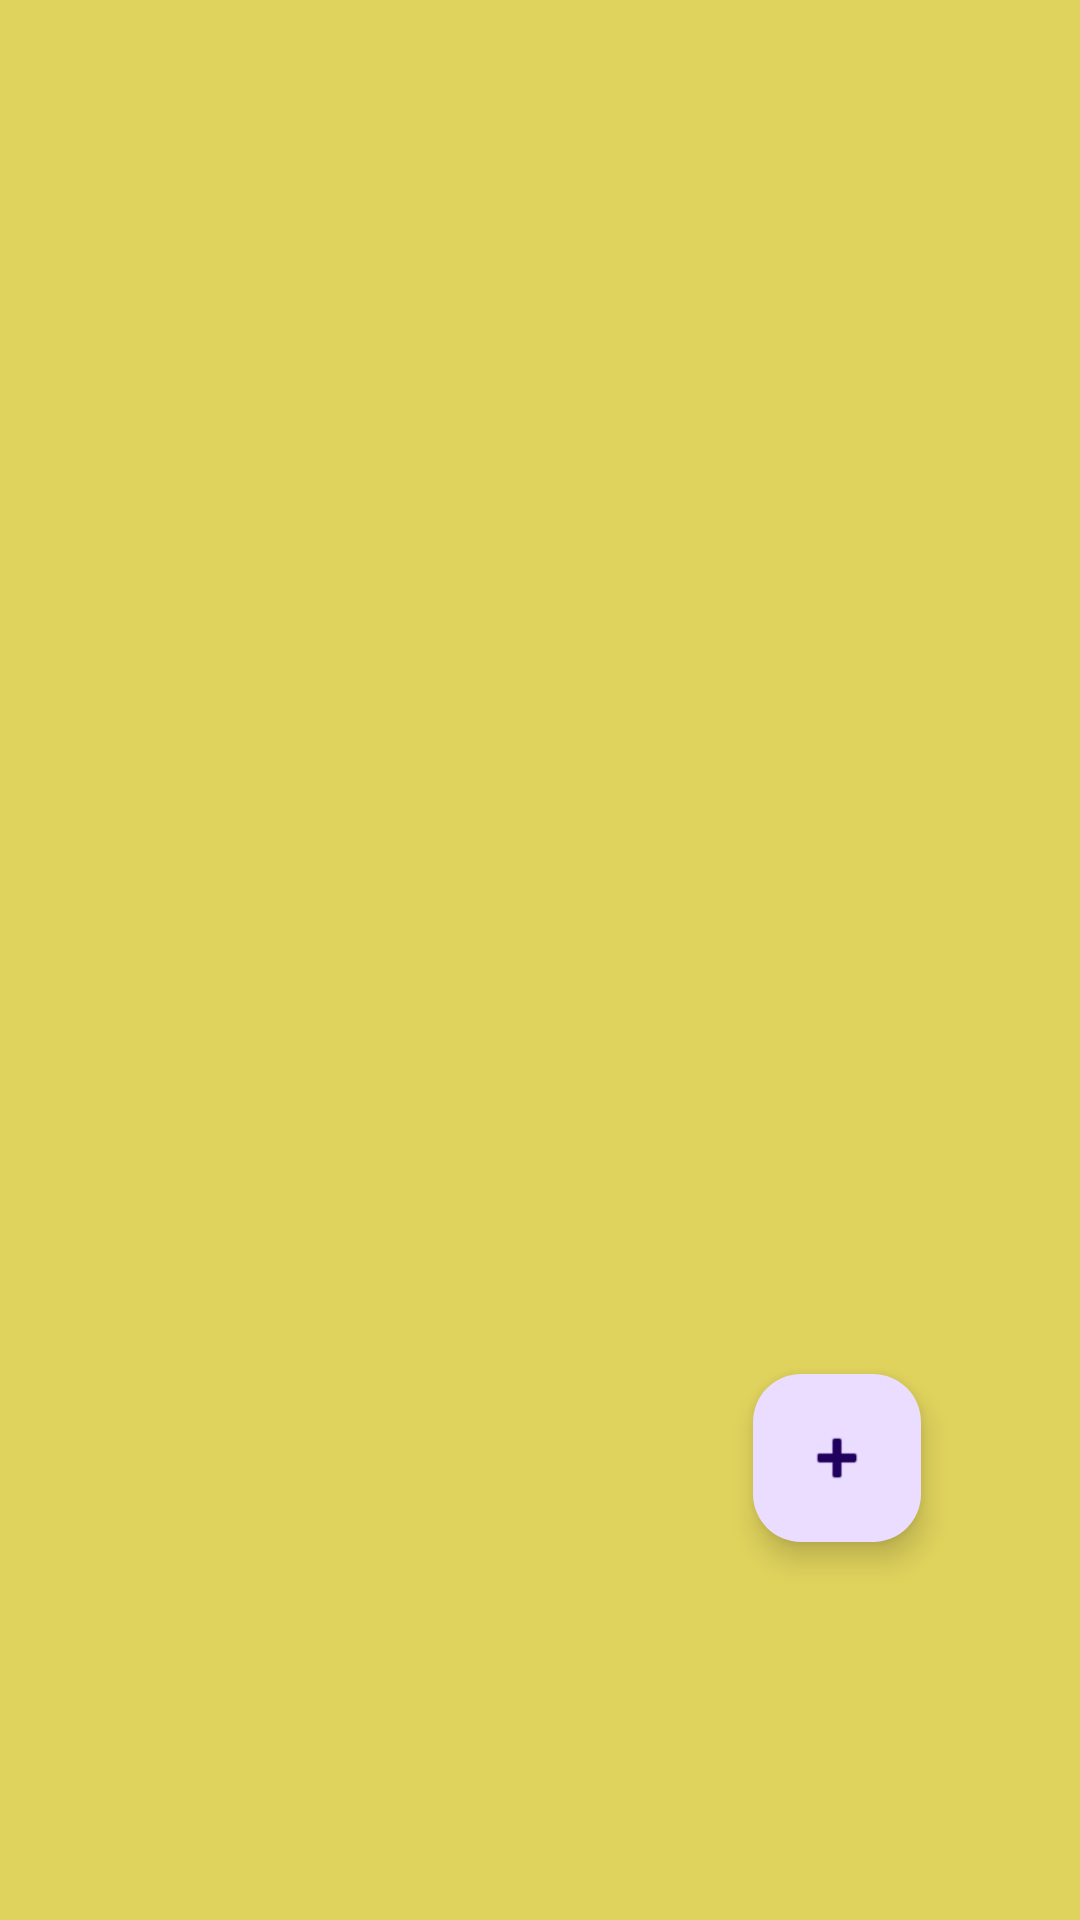

Icon click points for this 1080w x 1920h phone screenshot, format [x,y]:
add: [837,1458]
